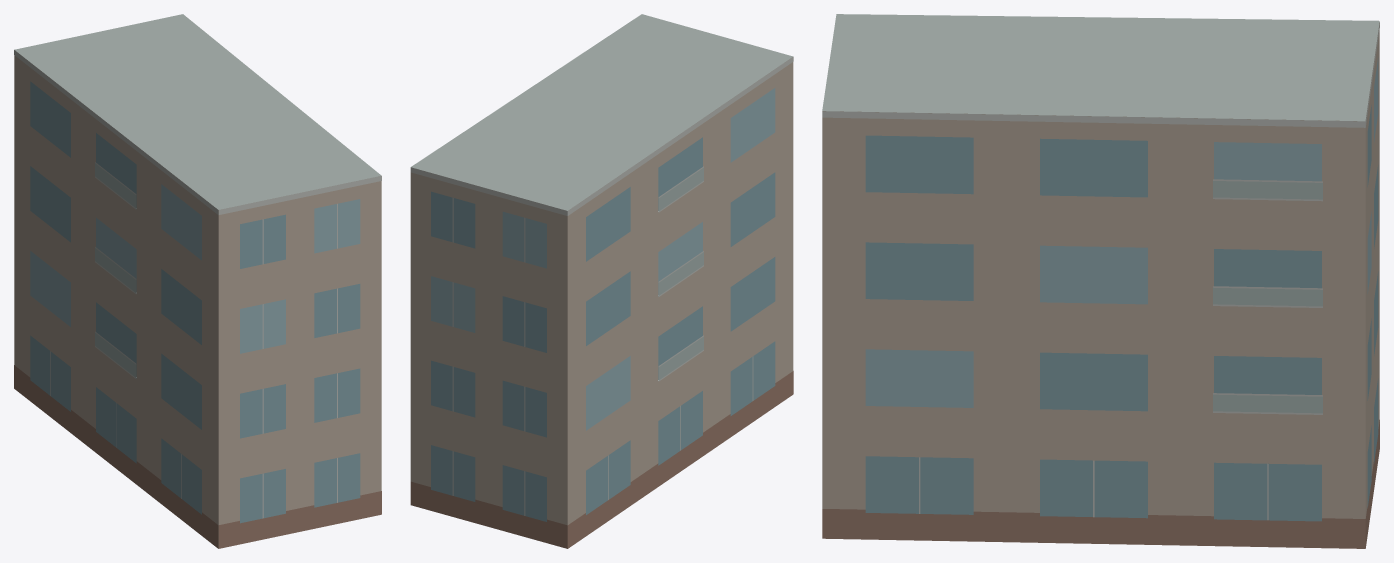
The model's file is survey-upis-32958272.glb.
3 views of the same model, side by side, from view 1: azimuth 30°, elevation 25°; view 2: azimuth 150°, elevation 25°; view 3: azimuth 270°, elevation 25° (orthographic). The views are drawn at different scales.
Visible parts, largest first — view 1: survey-upis-32958272.tmp; view 2: survey-upis-32958272.tmp; view 3: survey-upis-32958272.tmp.
Boxes of the visible parts, x1,y1,x2,y2 form: survey-upis-32958272.tmp: (14,14,381,548); survey-upis-32958272.tmp: (410,14,793,548); survey-upis-32958272.tmp: (822,14,1379,548).
Size of the model in its own units: 8.55 by 15.88 by 18.78.
